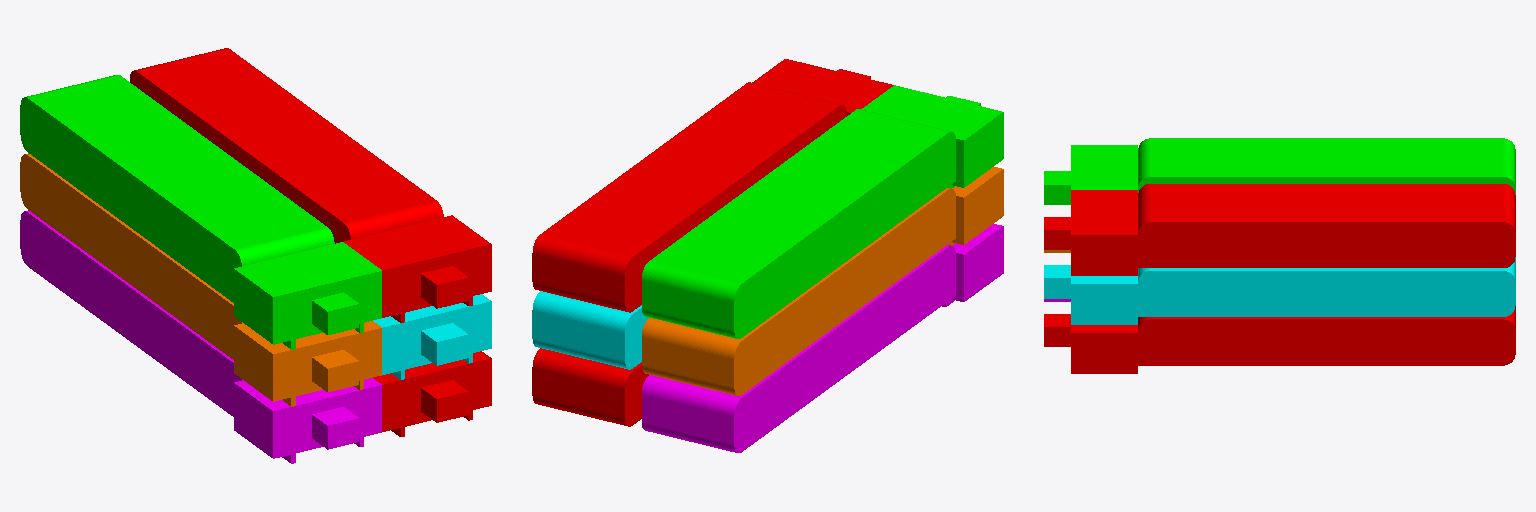
The robot description file, URDF, robot "intuition2":
<?xml version="1.0" ?>
<robot name="intuition2">
  <link name="shell_1">
    <visual name="shell_1_visual">
      <origin xyz="0 0 0" rpy="0 0 0"/>
      <geometry>
        <mesh filename="meshes/shell_1.stl"/>
      </geometry>
      <material name="shell_1-material">
        <color rgba="0 0 1 0.2"/>
      </material>
    </visual>
    <collision name="shell_1_collision">
      <origin xyz="0 0 0" rpy="0 0 0"/>
      <geometry>
        <mesh filename="meshes/shell_1.stl"/>
      </geometry>
    </collision>
    <inertial>
      <mass value="0.08628523"/>
      <inertia ixx="0.00015035763" iyy="0.00022974227" izz="0.00015127784" ixy="2.2881457e-06" ixz="6.3485404e-07" iyz="2.4925917e-06"/>
      <origin xyz="0 0 0" rpy="0 0 0"/>
    </inertial>
  </link>
  <link name="pendulum_1">
    <visual name="pendulum_1_visual">
      <origin xyz="0 0 0" rpy="0 0 0"/>
      <geometry>
        <mesh filename="meshes/pendulum_1.stl"/>
      </geometry>
      <material name="pendulum_1-material">
        <color rgba="1 1 0 1"/>
      </material>
    </visual>
    <!-- <collision name="pendulum_1_collision">
      <origin xyz="0 0 0" rpy="0 0 0"/>
      <geometry>
        <mesh filename="meshes/pendulum_1.stl"/>
      </geometry>
    </collision> -->
    <inertial>
      <mass value="0.0071673613"/>
      <inertia ixx="1.7166551e-06" iyy="2.0945342e-06" izz="3.0079635e-06" ixy="9.7125441e-13" ixz="3.1462099e-07" iyz="1.152783e-12"/>
      <origin xyz="-0.037231809 3.3807232e-08 0.0041113786" rpy="0 0 0"/>
    </inertial>
  </link>
  <link name="shell2_1">
    <visual name="shell2_1_visual">
      <origin xyz="0 0 0" rpy="0 0 0"/>
      <geometry>
        <mesh filename="meshes/shell2_1.stl"/>
      </geometry>
      <material name="shell2_1-material">
        <color rgba="1 0 0 0.2"/>
      </material>
    </visual>
    <collision name="shell2_1_collision">
      <origin xyz="0 0 0" rpy="0 0 0"/>
      <geometry>
        <mesh filename="meshes/shell2_1.stl"/>
      </geometry>
    </collision>
    <inertial>
      <mass value="0.0862734"/>
      <inertia ixx="0.00015033089" iyy="0.00015125497" izz="0.00022971627" ixy="-6.2591226e-07" ixz="2.2823868e-06" iyz="-2.5055845e-06"/>
      <origin xyz="-0.0024150986 0.00074215619 0.045164647" rpy="0 0 0"/>
    </inertial>
  </link>
  <link name="IQ2306_Simplified_1">
    <visual name="IQ2306_Simplified_1_visual">
      <origin xyz="0 0 0" rpy="0 0 0"/>
      <geometry>
        <mesh filename="meshes/IQ2306_Simplified_1.stl"/>
      </geometry>
      <material name="IQ2306_Simplified_1-material">
        <color rgba="1 1 1 1"/>
      </material>
    </visual>
    <!-- <collision name="IQ2306_Simplified_1_collision">
      <origin xyz="0 0 0" rpy="0 0 0"/>
      <geometry>
        <mesh filename="meshes/IQ2306_Simplified_1.stl"/>
      </geometry>
    </collision> -->
    <inertial>
      <mass value="0.0374"/>
      <inertia ixx="3.12877e-06" iyy="3.1731684e-06" izz="3.6323314e-06" ixy="-3.6536544e-09" ixz="1.7745299e-08" iyz="-2.2598499e-12"/>
      <origin xyz="8.2184387e-05 -9.4618498e-09 -0.015058897" rpy="0 0 0"/>
    </inertial>
  </link>
  <link name="leadestimation_1">
    <visual name="leadestimation_1_visual">
      <origin xyz="0 0 0" rpy="0 0 0"/>
      <geometry>
        <mesh filename="meshes/leadestimation_1.stl"/>
      </geometry>
      <material name="leadestimation_1-material">
        <color rgba="1 1 1 1"/>
      </material>
    </visual>
    <!-- <collision name="leadestimation_1_collision">
      <origin xyz="0 0 0" rpy="0 0 0"/>
      <geometry>
        <mesh filename="meshes/leadestimation_1.stl"/>
      </geometry>
    </collision> -->
    <inertial>
      <mass value="0.13856077"/>
      <inertia ixx="2.5003304e-05" iyy="7.9678038e-06" izz="2.1175891e-05" ixy="0" ixz="0" iyz="0"/>
      <origin xyz="-0.0012493151 -0.015 -0.0113" rpy="0 0 0"/>
    </inertial>
  </link>
  <link name="2x3_battery_pack_1_SUB_tattu_220mah_battery_1">
    <visual name="2x3_battery_pack_1_SUB_tattu_220mah_battery_1_visual">
      <origin xyz="0 0 0" rpy="0 0 0"/>
      <geometry>
        <mesh filename="meshes/2x3_battery_pack_1_SUB_tattu_220mah_battery_1.stl"/>
      </geometry>
      <material name="2x3_battery_pack_1_SUB_tattu_220mah_battery_1-material">
        <color rgba="1 0.5 0 1"/>
      </material>
    </visual>
    <!-- <collision name="2x3_battery_pack_1_SUB_tattu_220mah_battery_1_collision">
      <origin xyz="0 0 0" rpy="0 0 0"/>
      <geometry>
        <mesh filename="meshes/2x3_battery_pack_1_SUB_tattu_220mah_battery_1.stl"/>
      </geometry>
    </collision> -->
    <inertial>
      <mass value="0.006"/>
      <inertia ixx="1.2794722e-06" iyy="1.3180285e-06" izz="7.0975361e-08" ixy="0" ixz="0" iyz="1.9064659e-08"/>
      <origin xyz="-0.006 0.00069753431 -0.024411653" rpy="0 0 0"/>
    </inertial>
  </link>
  <link name="pendulumcap_1">
    <visual name="pendulumcap_1_visual">
      <origin xyz="0 0 0" rpy="0 0 0"/>
      <geometry>
        <mesh filename="meshes/pendulumcap_1.stl"/>
      </geometry>
      <material name="pendulumcap_1-material">
        <color rgba="1 0 0.5 1"/>
      </material>
    </visual>
    <!-- <collision name="pendulumcap_1_collision">
      <origin xyz="0 0 0" rpy="0 0 0"/>
      <geometry>
        <mesh filename="meshes/pendulumcap_1.stl"/>
      </geometry>
    </collision> -->
    <inertial>
      <mass value="0.0015467673"/>
      <inertia ixx="2.4712971e-07" iyy="3.6445559e-08" izz="2.8142381e-07" ixy="0" ixz="-5.8823535e-11" iyz="0"/>
      <origin xyz="0.00017410324 4.8227019e-18 -0.00032712916" rpy="0 0 0"/>
    </inertial>
  </link>
  <link name="2x3_battery_pack_1_SUB_tattu_220mah_battery_2">
    <visual name="2x3_battery_pack_1_SUB_tattu_220mah_battery_2_visual">
      <origin xyz="0 0 0" rpy="0 0 0"/>
      <geometry>
        <mesh filename="meshes/2x3_battery_pack_1_SUB_tattu_220mah_battery_2.stl"/>
      </geometry>
      <material name="2x3_battery_pack_1_SUB_tattu_220mah_battery_2-material">
        <color rgba="0 1 0 1"/>
      </material>
    </visual>
    <!-- <collision name="2x3_battery_pack_1_SUB_tattu_220mah_battery_2_collision">
      <origin xyz="0 0 0" rpy="0 0 0"/>
      <geometry>
        <mesh filename="meshes/2x3_battery_pack_1_SUB_tattu_220mah_battery_2.stl"/>
      </geometry>
    </collision> -->
    <inertial>
      <mass value="0.006"/>
      <inertia ixx="1.2794722e-06" iyy="7.0975361e-08" izz="1.3180285e-06" ixy="0" ixz="0" iyz="-1.9064659e-08"/>
      <origin xyz="0.006 0.024411653 0.0041975343" rpy="0 0 0"/>
    </inertial>
  </link>
  <link name="2x3_battery_pack_1_SUB_tattu_220mah_battery_6">
    <visual name="2x3_battery_pack_1_SUB_tattu_220mah_battery_6_visual">
      <origin xyz="0 0 0" rpy="0 0 0"/>
      <geometry>
        <mesh filename="meshes/2x3_battery_pack_1_SUB_tattu_220mah_battery_6.stl"/>
      </geometry>
      <material name="2x3_battery_pack_1_SUB_tattu_220mah_battery_6-material">
        <color rgba="1 0 1 1"/>
      </material>
    </visual>
    <!-- <collision name="2x3_battery_pack_1_SUB_tattu_220mah_battery_6_collision">
      <origin xyz="0 0 0" rpy="0 0 0"/>
      <geometry>
        <mesh filename="meshes/2x3_battery_pack_1_SUB_tattu_220mah_battery_6.stl"/>
      </geometry>
    </collision> -->
    <inertial>
      <mass value="0.006"/>
      <inertia ixx="1.2794722e-06" iyy="7.0975361e-08" izz="1.3180285e-06" ixy="0" ixz="0" iyz="-1.9064659e-08"/>
      <origin xyz="0.006 0.024411653 -0.0018024657" rpy="0 0 0"/>
    </inertial>
  </link>
  <link name="2x3_battery_pack_1_SUB_tattu_220mah_battery_4">
    <visual name="2x3_battery_pack_1_SUB_tattu_220mah_battery_4_visual">
      <origin xyz="0 0 0" rpy="0 0 0"/>
      <geometry>
        <mesh filename="meshes/2x3_battery_pack_1_SUB_tattu_220mah_battery_4.stl"/>
      </geometry>
      <material name="2x3_battery_pack_1_SUB_tattu_220mah_battery_4-material">
        <color rgba="0 1 1 1"/>
      </material>
    </visual>
    <!-- <collision name="2x3_battery_pack_1_SUB_tattu_220mah_battery_4_collision">
      <origin xyz="0 0 0" rpy="0 0 0"/>
      <geometry>
        <mesh filename="meshes/2x3_battery_pack_1_SUB_tattu_220mah_battery_4.stl"/>
      </geometry>
    </collision> -->
    <inertial>
      <mass value="0.006"/>
      <inertia ixx="1.3180285e-06" iyy="7.0975361e-08" izz="1.2794722e-06" ixy="-1.9064659e-08" ixz="0" iyz="0"/>
      <origin xyz="0.00069753431 0.020661653 -0.006" rpy="0 0 0"/>
    </inertial>
  </link>
  <link name="2x3_battery_pack_1_SUB_tattu_220mah_battery_5">
    <visual name="2x3_battery_pack_1_SUB_tattu_220mah_battery_5_visual">
      <origin xyz="0 0 0" rpy="0 0 0"/>
      <geometry>
        <mesh filename="meshes/2x3_battery_pack_1_SUB_tattu_220mah_battery_5.stl"/>
      </geometry>
      <material name="2x3_battery_pack_1_SUB_tattu_220mah_battery_5-material">
        <color rgba="1 0 0 1"/>
      </material>
    </visual>
    <!-- <collision name="2x3_battery_pack_1_SUB_tattu_220mah_battery_5_collision">
      <origin xyz="0 0 0" rpy="0 0 0"/>
      <geometry>
        <mesh filename="meshes/2x3_battery_pack_1_SUB_tattu_220mah_battery_5.stl"/>
      </geometry>
    </collision> -->
    <inertial>
      <mass value="0.006"/>
      <inertia ixx="1.2794722e-06" iyy="7.0975361e-08" izz="1.3180285e-06" ixy="0" ixz="0" iyz="-1.9064659e-08"/>
      <origin xyz="0.006 0.024411653 0.0041975343" rpy="0 0 0"/>
    </inertial>
  </link>
  <link name="2x3_battery_pack_1_SUB_tattu_220mah_battery_3">
    <visual name="2x3_battery_pack_1_SUB_tattu_220mah_battery_3_visual">
      <origin xyz="0 0 0" rpy="0 0 0"/>
      <geometry>
        <mesh filename="meshes/2x3_battery_pack_1_SUB_tattu_220mah_battery_3.stl"/>
      </geometry>
      <material name="2x3_battery_pack_1_SUB_tattu_220mah_battery_3-material">
        <color rgba="1 0 0 1"/>
      </material>
    </visual>
    <!-- <collision name="2x3_battery_pack_1_SUB_tattu_220mah_battery_3_collision">
      <origin xyz="0 0 0" rpy="0 0 0"/>
      <geometry>
        <mesh filename="meshes/2x3_battery_pack_1_SUB_tattu_220mah_battery_3.stl"/>
      </geometry>
    </collision> -->
    <inertial>
      <mass value="0.006"/>
      <inertia ixx="1.2794722e-06" iyy="7.0975361e-08" izz="1.3180285e-06" ixy="0" ixz="0" iyz="-1.9064659e-08"/>
      <origin xyz="0.006 0.024411653 -0.0018024657" rpy="0 0 0"/>
    </inertial>
  </link>
  <joint name="Revolute_1" type="revolute">
    <origin xyz="-0.0024110692 0.021160973 -0.00075220053" rpy="-1.5707963 0 0"/>
    <parent link="shell_1"/>
    <child link="pendulum_1"/>
    <axis xyz="0 0 -1"/>
    <limit effort="1" velocity="1" lower="-6.2831853" upper="6.2831853"/>
  </joint>
  <joint name="Fastened_3" type="fixed">
    <origin xyz="-0.0024110692 0.021160973 -0.00075220053" rpy="-1.5707963 0 0"/>
    <parent link="shell_1"/>
    <child link="shell2_1"/>
  </joint>
  <joint name="Fastened_5" type="fixed">
    <origin xyz="-0.0024110692 0.021160973 -0.00075220053" rpy="-1.5707963 0 0"/>
    <parent link="shell_1"/>
    <child link="IQ2306_Simplified_1"/>
  </joint>
  <joint name="Fastened_1" type="fixed">
    <origin xyz="-0.04348563 -0.015 -0.0026" rpy="3.1415927 0 0"/>
    <parent link="pendulum_1"/>
    <child link="leadestimation_1"/>
  </joint>
  <joint name="Fastened_4" type="fixed">
    <origin xyz="0 0 0.012" rpy="3.1415927 0 0"/>
    <parent link="shell2_1"/>
    <child link="2x3_battery_pack_1_SUB_tattu_220mah_battery_1"/>
  </joint>
  <joint name="Fastened_2" type="fixed">
    <origin xyz="-0.0012493151 -0.015 -0.0226" rpy="0 0 0"/>
    <parent link="leadestimation_1"/>
    <child link="pendulumcap_1"/>
  </joint>
  <joint name="bat1" type="fixed">
    <origin xyz="-0.012 0.0025 0" rpy="-1.5707963 0 0"/>
    <parent link="2x3_battery_pack_1_SUB_tattu_220mah_battery_1"/>
    <child link="2x3_battery_pack_1_SUB_tattu_220mah_battery_2"/>
  </joint>
  <joint name="bat2" type="fixed">
    <origin xyz="-0.012 -0.0035 0" rpy="-1.5707963 0 0"/>
    <parent link="2x3_battery_pack_1_SUB_tattu_220mah_battery_1"/>
    <child link="2x3_battery_pack_1_SUB_tattu_220mah_battery_6"/>
  </joint>
  <joint name="bat5" type="fixed">
    <origin xyz="0 1.0842022e-19 -0.00375" rpy="-1.5707963 0 1.5707963"/>
    <parent link="2x3_battery_pack_1_SUB_tattu_220mah_battery_1"/>
    <child link="2x3_battery_pack_1_SUB_tattu_220mah_battery_4"/>
  </joint>
  <joint name="bat3" type="fixed">
    <origin xyz="0.0025 -0.00375 0" rpy="-0 1.5707963 0"/>
    <parent link="2x3_battery_pack_1_SUB_tattu_220mah_battery_4"/>
    <child link="2x3_battery_pack_1_SUB_tattu_220mah_battery_5"/>
  </joint>
  <joint name="bat4" type="fixed">
    <origin xyz="-0.0035 -0.00375 8.6736174e-19" rpy="-0 1.5707963 0"/>
    <parent link="2x3_battery_pack_1_SUB_tattu_220mah_battery_4"/>
    <child link="2x3_battery_pack_1_SUB_tattu_220mah_battery_3"/>
  </joint>
</robot>

--- What the picture shows (computed from the rendered views, not written in the file) ---
3 views of the same robot in one strip: view 1: azimuth 30°, elevation 25°; view 2: azimuth 150°, elevation 25°; view 3: azimuth 270°, elevation 25° (orthographic).
Model intuition2 with 12 links and 11 joints (1 revolute, 10 fixed), rooted at shell_1, posed all joints at 0.
Visible links, largest first — view 1: 2x3_battery_pack_1_SUB_tattu_220mah_battery_2, 2x3_battery_pack_1_SUB_tattu_220mah_battery_5, 2x3_battery_pack_1_SUB_tattu_220mah_battery_6, 2x3_battery_pack_1_SUB_tattu_220mah_battery_1, 2x3_battery_pack_1_SUB_tattu_220mah_battery_4, 2x3_battery_pack_1_SUB_tattu_220mah_battery_3; view 2: 2x3_battery_pack_1_SUB_tattu_220mah_battery_2, 2x3_battery_pack_1_SUB_tattu_220mah_battery_5, 2x3_battery_pack_1_SUB_tattu_220mah_battery_6, 2x3_battery_pack_1_SUB_tattu_220mah_battery_1, 2x3_battery_pack_1_SUB_tattu_220mah_battery_4, 2x3_battery_pack_1_SUB_tattu_220mah_battery_3; view 3: 2x3_battery_pack_1_SUB_tattu_220mah_battery_5, 2x3_battery_pack_1_SUB_tattu_220mah_battery_4, 2x3_battery_pack_1_SUB_tattu_220mah_battery_3, 2x3_battery_pack_1_SUB_tattu_220mah_battery_2.
Link boxes in pixels (x1,y1,x2,y2): 2x3_battery_pack_1_SUB_tattu_220mah_battery_2: (20, 75, 381, 349); 2x3_battery_pack_1_SUB_tattu_220mah_battery_5: (130, 48, 491, 322); 2x3_battery_pack_1_SUB_tattu_220mah_battery_6: (20, 210, 381, 463); 2x3_battery_pack_1_SUB_tattu_220mah_battery_1: (20, 153, 381, 406); 2x3_battery_pack_1_SUB_tattu_220mah_battery_4: (373, 294, 491, 379); 2x3_battery_pack_1_SUB_tattu_220mah_battery_3: (373, 351, 491, 436); 2x3_battery_pack_1_SUB_tattu_220mah_battery_2: (642, 85, 1003, 338); 2x3_battery_pack_1_SUB_tattu_220mah_battery_5: (532, 59, 893, 312); 2x3_battery_pack_1_SUB_tattu_220mah_battery_6: (642, 224, 1003, 452); 2x3_battery_pack_1_SUB_tattu_220mah_battery_1: (642, 167, 1003, 395); 2x3_battery_pack_1_SUB_tattu_220mah_battery_4: (532, 291, 648, 369); 2x3_battery_pack_1_SUB_tattu_220mah_battery_3: (532, 348, 648, 426); 2x3_battery_pack_1_SUB_tattu_220mah_battery_5: (1044, 184, 1515, 275); 2x3_battery_pack_1_SUB_tattu_220mah_battery_4: (1044, 257, 1515, 324); 2x3_battery_pack_1_SUB_tattu_220mah_battery_3: (1044, 306, 1515, 373); 2x3_battery_pack_1_SUB_tattu_220mah_battery_2: (1044, 138, 1515, 204).
Bounding box of the posed robot: 0.024 × 0.0527 × 0.0192 m (x, y, z).
6 mesh visuals loaded from 12 distinct referenced files (6 binary STL); not drawn: 6 (reference not matched to a file when rendering).